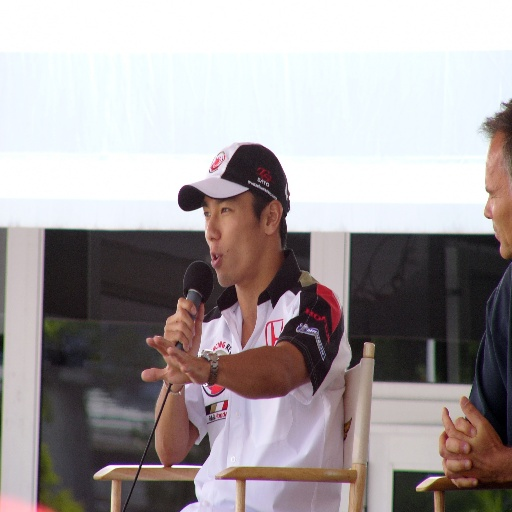hand: (438, 395, 505, 485), (140, 334, 210, 385), (163, 296, 205, 358), (445, 414, 478, 485)
